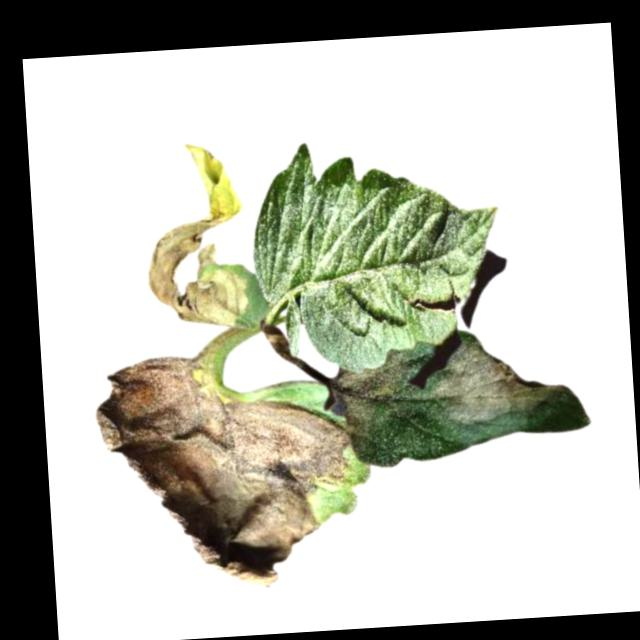Late_blight: (92, 344, 359, 598), (135, 139, 248, 332), (430, 334, 559, 428), (321, 351, 412, 456)
healthy: (247, 131, 508, 378)
